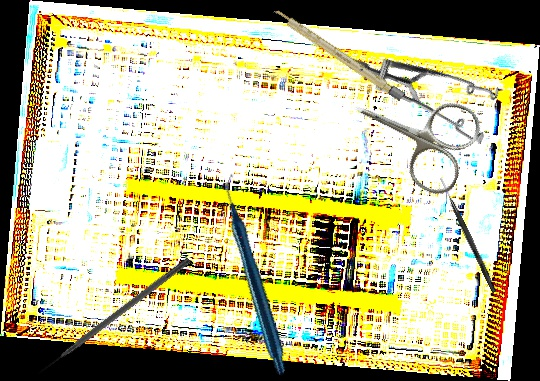Handpiece: (171, 172, 343, 376)
Hook Surgical: (35, 256, 192, 377), (436, 176, 499, 294)
Iris Scissors: (335, 63, 487, 202)
Scalpel Handle: (271, 6, 405, 102)
Speculum: (345, 0, 519, 180)
